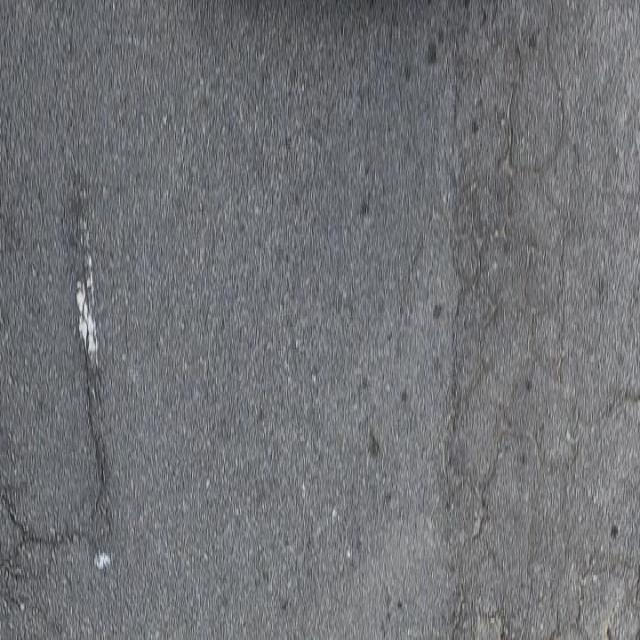cracks: (403, 1, 640, 640)
potholes: (3, 132, 130, 590)
